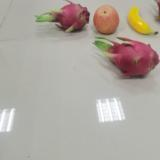apple: (93, 5, 120, 35)
pitaya: (98, 37, 159, 77), (46, 4, 89, 32)
